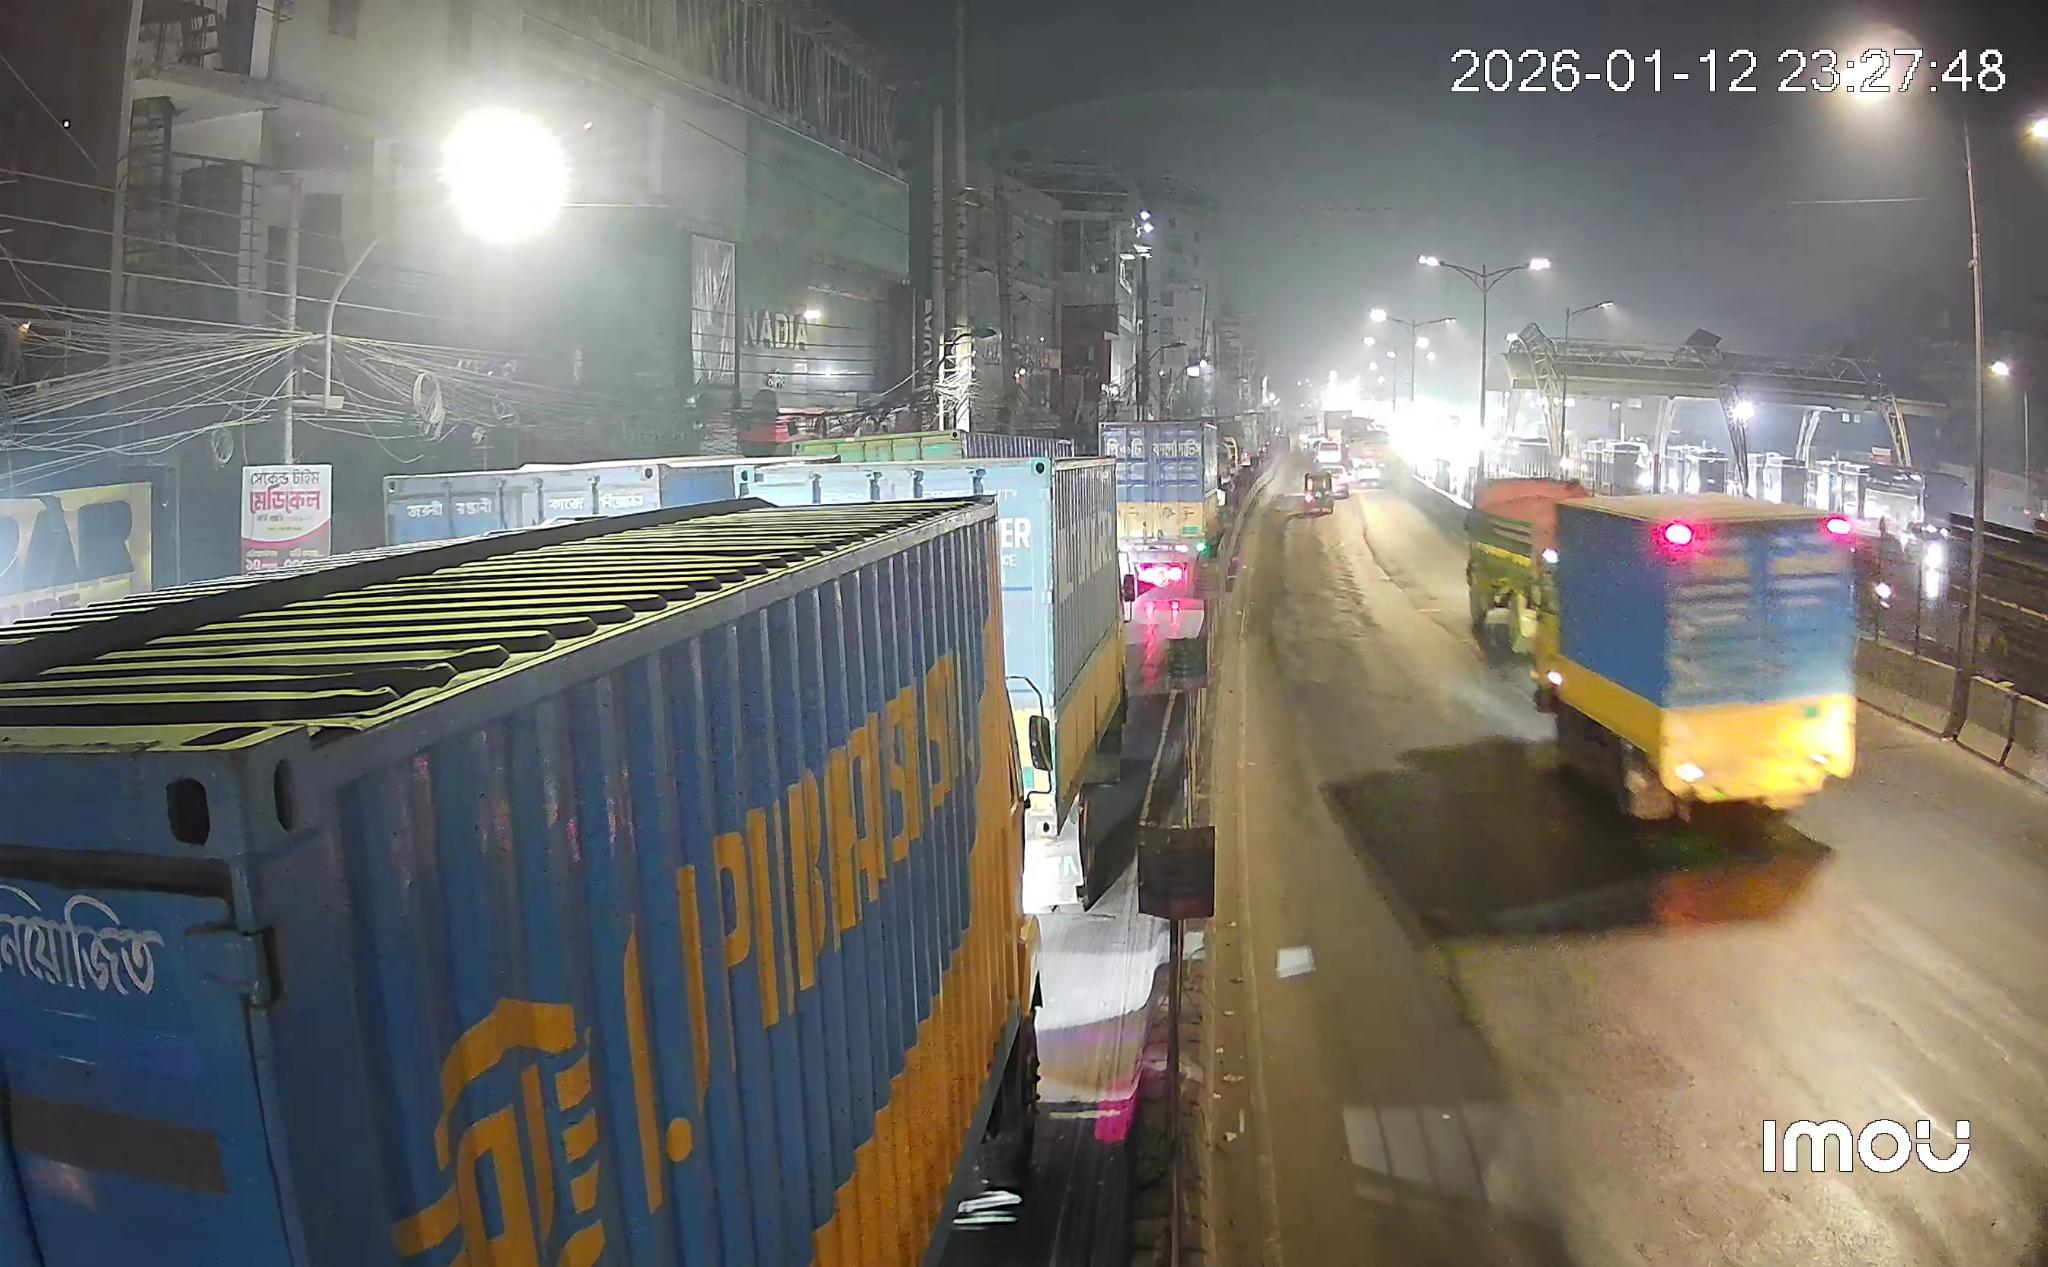Truck: (0, 497, 1049, 1267), (743, 456, 1126, 911), (1535, 495, 1856, 819), (1466, 478, 1592, 655), (1102, 421, 1221, 598)
